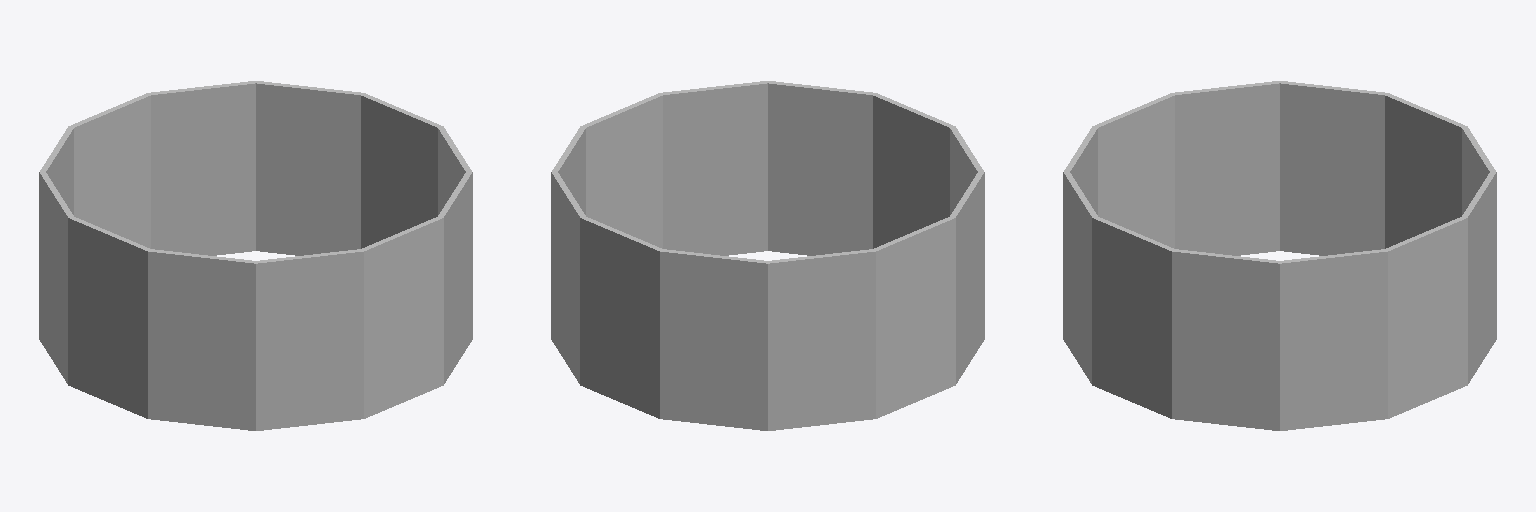
The model's file is glass_2.obj.
The picture shows the model from 3 angles: view 1: azimuth 30°, elevation 25°; view 2: azimuth 150°, elevation 25°; view 3: azimuth 270°, elevation 25°; orthographic projection.
Parts seen in each view (by area): view 1: main_0.003_Circle.004; view 2: main_0.003_Circle.004; view 3: main_0.003_Circle.004.
Boxes of the visible parts, box(x1,y1,x2,y2) form: main_0.003_Circle.004: box(39, 81, 472, 430); main_0.003_Circle.004: box(551, 81, 984, 430); main_0.003_Circle.004: box(1063, 81, 1496, 430).
Size of the model in its own units: 4.27 by 1.83 by 4.27.